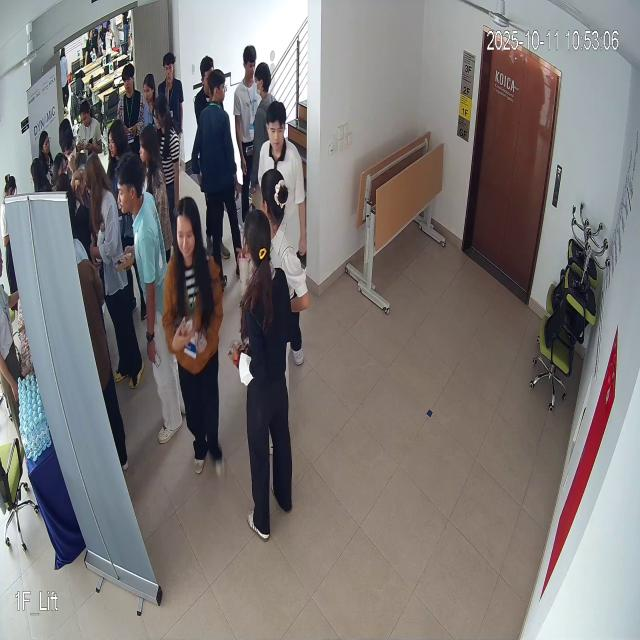face: (170, 196, 210, 272), (110, 153, 150, 226), (265, 98, 289, 155)
